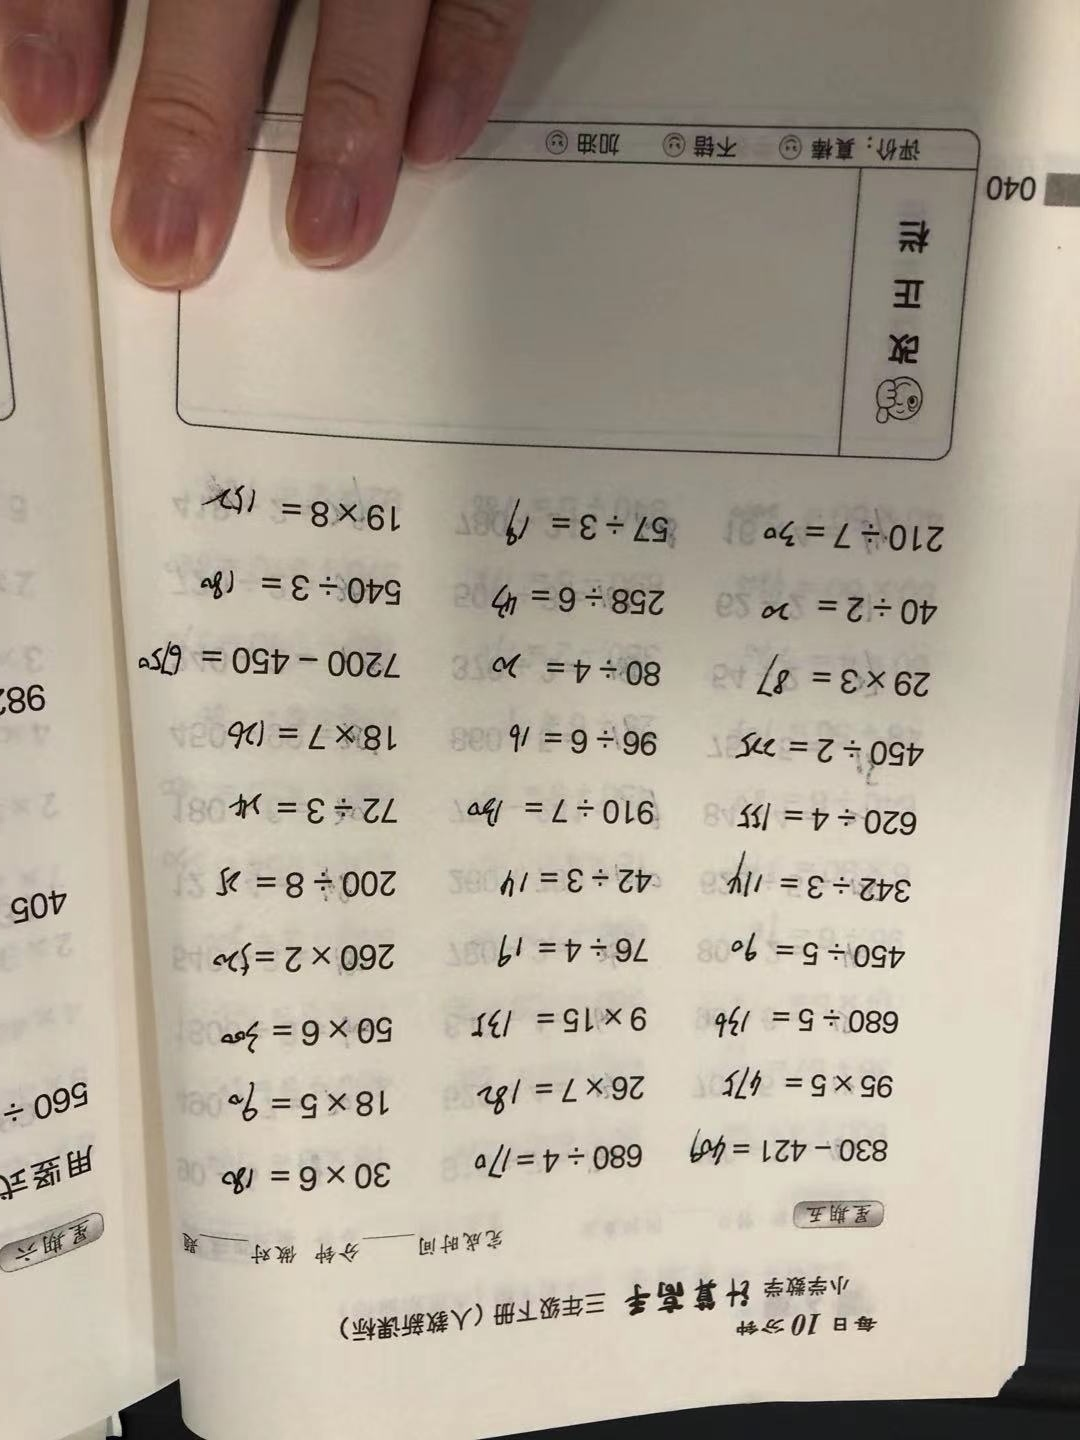equation: (121, 628, 416, 690), (179, 472, 429, 538), (453, 493, 683, 556), (647, 925, 912, 979), (666, 1122, 904, 1181), (175, 558, 419, 613), (670, 988, 910, 1042), (195, 1002, 418, 1059), (704, 721, 939, 775), (187, 932, 421, 985), (739, 505, 953, 561), (198, 710, 427, 762), (706, 855, 930, 908), (449, 782, 679, 833), (738, 582, 956, 635), (707, 795, 938, 845), (727, 647, 936, 702), (464, 645, 676, 698), (463, 1064, 652, 1122), (209, 1078, 409, 1130), (690, 1056, 906, 1104), (469, 713, 670, 764), (204, 1153, 413, 1202), (198, 856, 404, 905), (463, 578, 673, 625), (207, 787, 419, 833), (444, 1001, 653, 1041), (464, 865, 670, 905), (473, 932, 653, 976), (461, 1139, 650, 1178)
